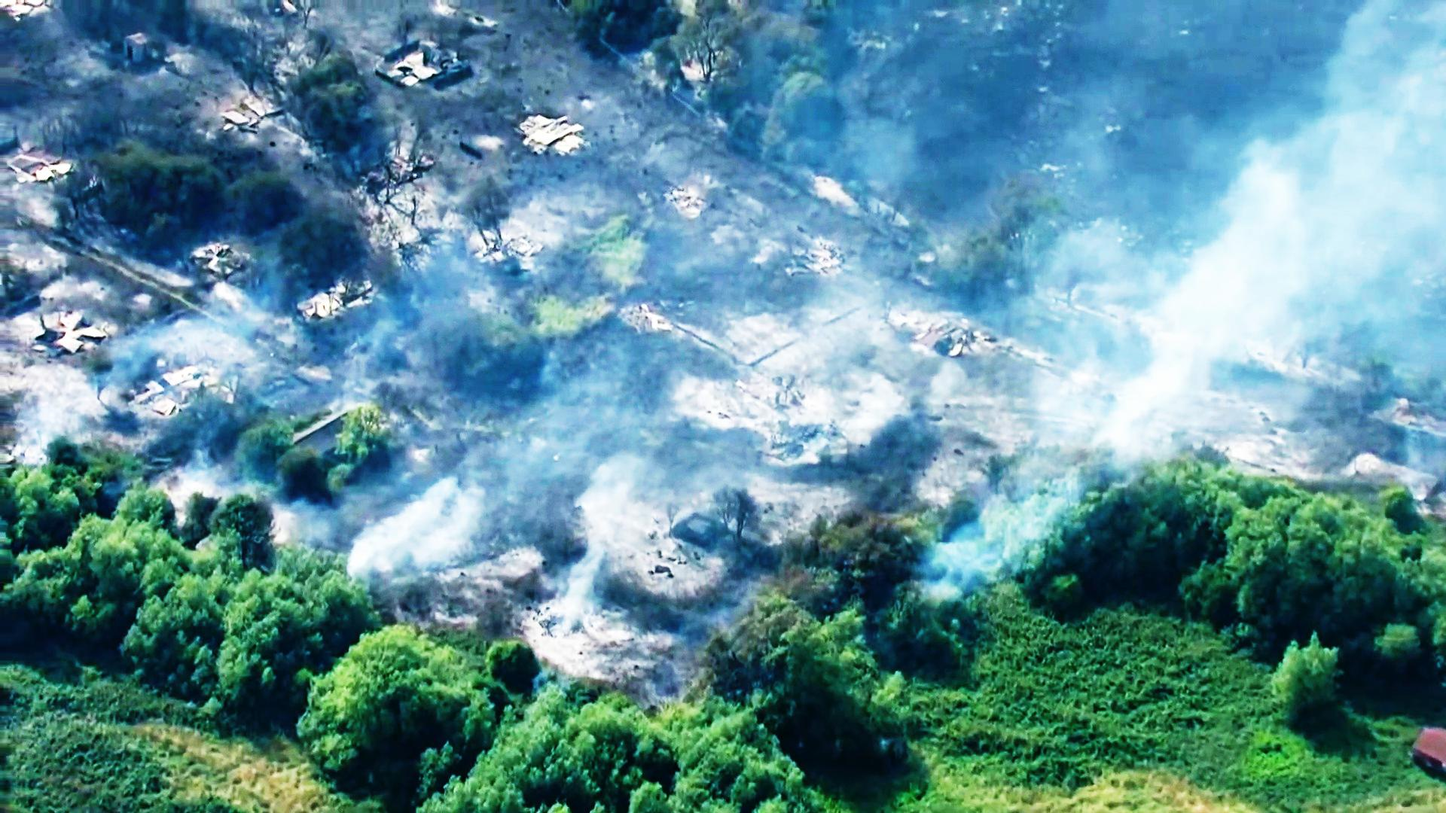smoke: (1203, 219, 1300, 336)
